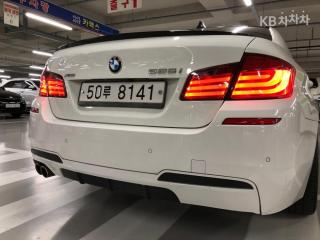0: (94, 84, 103, 100)
1: (147, 83, 156, 101), (127, 83, 135, 101)
4: (135, 83, 147, 101)
5: (86, 84, 94, 100)
8: (116, 84, 127, 101)
루: (102, 84, 112, 99)
